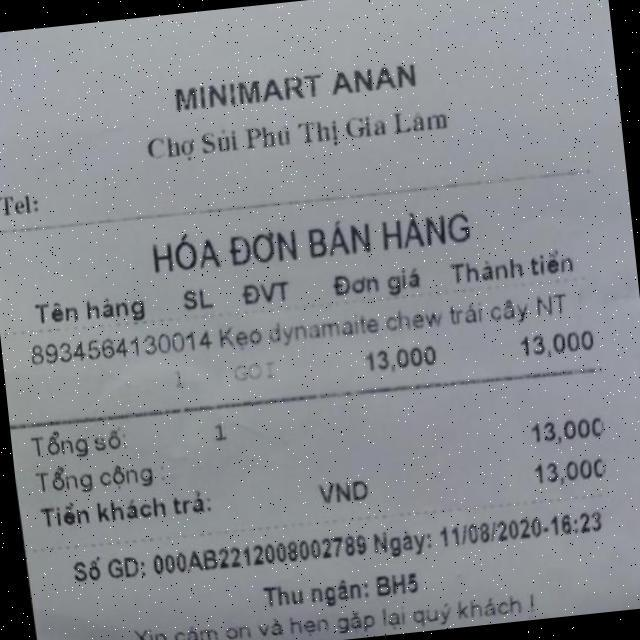Date: (436, 511, 546, 554)
Store_Name: (141, 44, 440, 126)
amount_number: (518, 408, 620, 452)
label_total: (33, 461, 158, 496)
